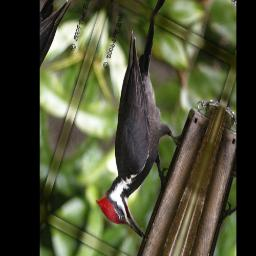Woodpecker: (77, 9, 210, 243)
